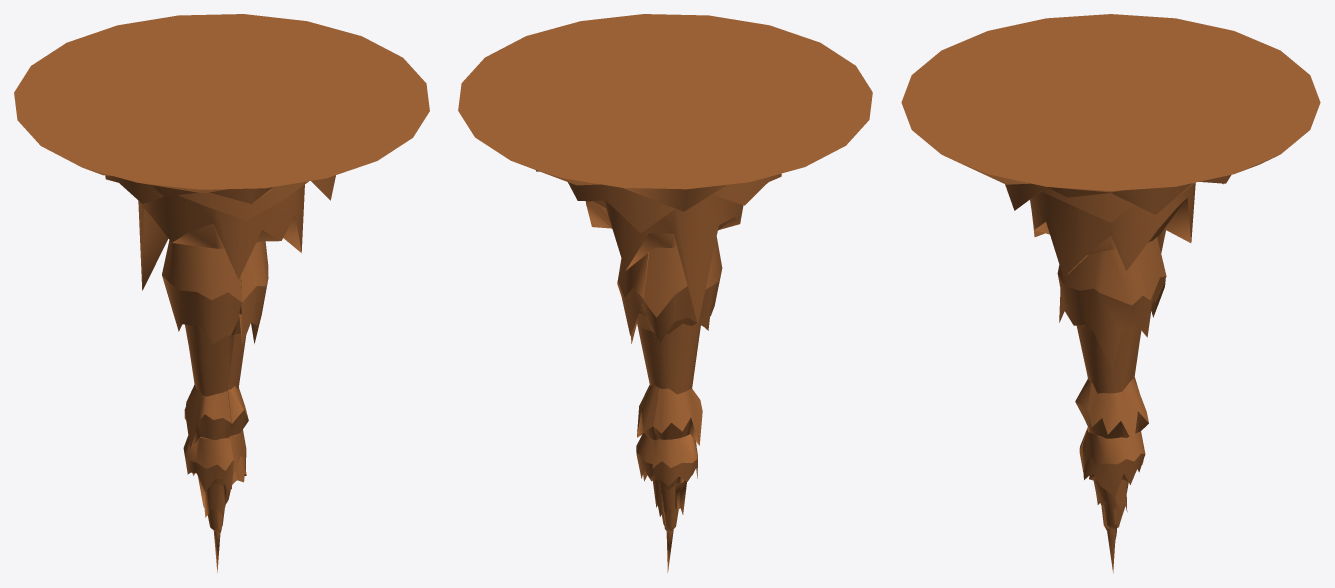
The model's file is 4SplitStalactite.FBX.
The picture shows the model from 3 angles, left to right: view 1: azimuth 30°, elevation 25°; view 2: azimuth 150°, elevation 25°; view 3: azimuth 270°, elevation 25°; orthographic projection.
Parts seen in each view (by area): view 1: TopSection001, MidSide2, MidSide1, BottomSide2, BottomSide1; view 2: TopSection001, MidSide2, MidSide1, BottomSide2, BottomSide1; view 3: TopSection001, MidSide1, BottomSide1, BottomSide2.
Boxes of the visible parts, left/top/right/bottom form: TopSection001: left=14, top=14, right=429, bottom=290; MidSide2: left=162, top=240, right=242, bottom=449; MidSide1: left=227, top=241, right=268, bottom=436; BottomSide2: left=183, top=436, right=233, bottom=572; BottomSide1: left=218, top=430, right=246, bottom=535; TopSection001: left=458, top=14, right=872, bottom=323; MidSide2: left=643, top=237, right=722, bottom=445; MidSide1: left=617, top=252, right=658, bottom=440; BottomSide2: left=652, top=434, right=697, bottom=572; BottomSide1: left=636, top=433, right=668, bottom=541; TopSection001: left=901, top=14, right=1320, bottom=277; MidSide1: left=1057, top=237, right=1166, bottom=444; BottomSide1: left=1082, top=427, right=1145, bottom=539; BottomSide2: left=1079, top=427, right=1143, bottom=573.
Size of the model in its own units: 47.53 by 59.19 by 47.53.
